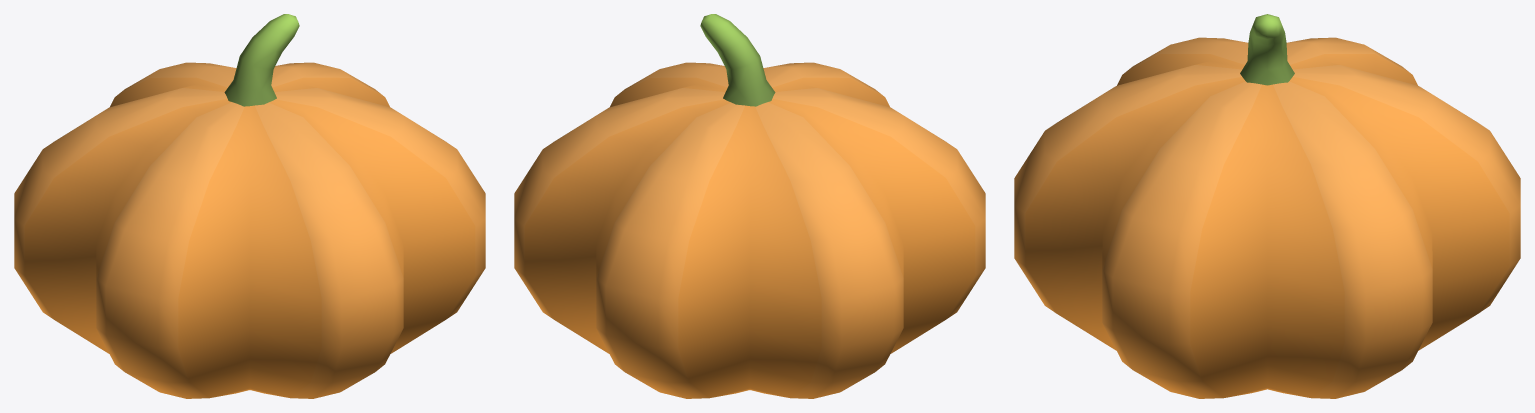
Rendered from Character_Plant6.fbx.
3 views of the same model, side by side, from view 1: azimuth 30°, elevation 25°; view 2: azimuth 150°, elevation 25°; view 3: azimuth 270°, elevation 25° (orthographic). The views are drawn at different scales.
Parts seen in each view (by area): view 1: pumpkin; view 2: pumpkin; view 3: pumpkin.
Boxes of the visible parts, box(x1,y1,x2,y2) form: pumpkin: box(14, 14, 485, 398); pumpkin: box(514, 14, 985, 398); pumpkin: box(1014, 14, 1520, 398).
Bounding box in the file's own units: 84.03 × 72.67 × 90.34.
1 material, 1 textured.
